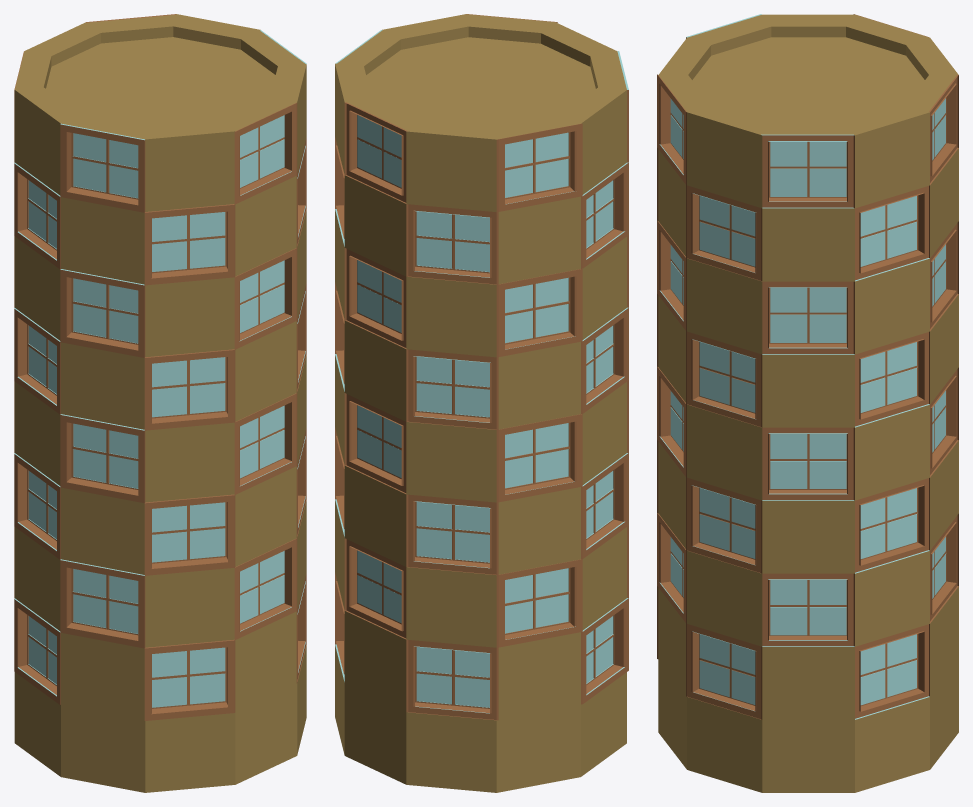
The model's file is Circle Coppa.fbx.
3 views of the same model, side by side, from view 1: azimuth 30°, elevation 25°; view 2: azimuth 150°, elevation 25°; view 3: azimuth 270°, elevation 25° (orthographic).
Visible parts, largest first — view 1: Cylinder.003; view 2: Cylinder.003; view 3: Cylinder.003.
Part boxes in pixels (bbox=[...]): Cylinder.003: bbox=[14, 14, 306, 792]; Cylinder.003: bbox=[335, 14, 628, 792]; Cylinder.003: bbox=[657, 14, 958, 792].
Bounding box in the file's own units: 1689 × 4266 × 1774.
